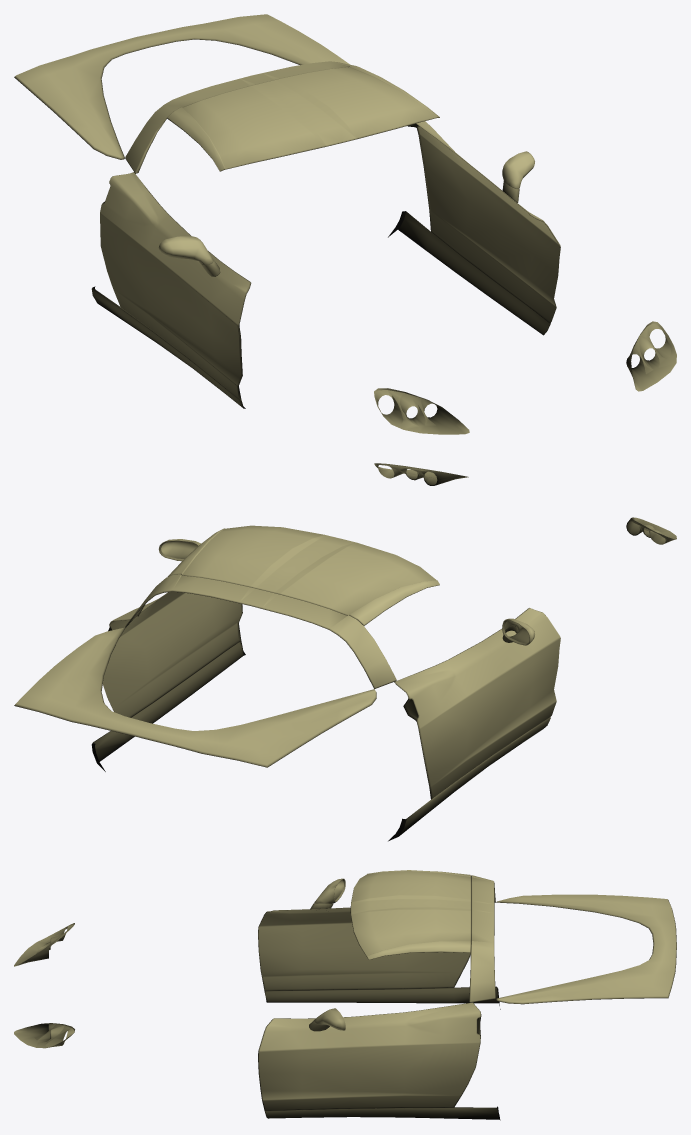
File: Zr1_Base_Body_Duco.fbx
3 views of the same model, one above another, from view 1: azimuth 30°, elevation 25°; view 2: azimuth 150°, elevation 25°; view 3: azimuth 270°, elevation 25° (orthographic). The views are drawn at different scales.
Visible parts, largest first — view 1: Zr1_Base_Body_Duco; view 2: Zr1_Base_Body_Duco; view 3: Zr1_Base_Body_Duco.
Boxes of the visible parts, box(x1,y1,x2,y2) form: Zr1_Base_Body_Duco: box(14, 14, 676, 434); Zr1_Base_Body_Duco: box(14, 463, 676, 841); Zr1_Base_Body_Duco: box(14, 870, 676, 1120).
Bounding box in the file's own units: 209 × 111 × 408.
